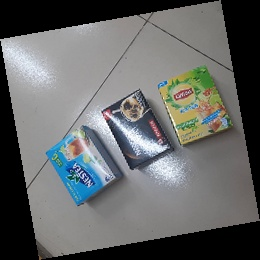CF Viet: (100, 88, 175, 172)
LipTon: (157, 64, 235, 148)
Nestea: (44, 125, 122, 207)
